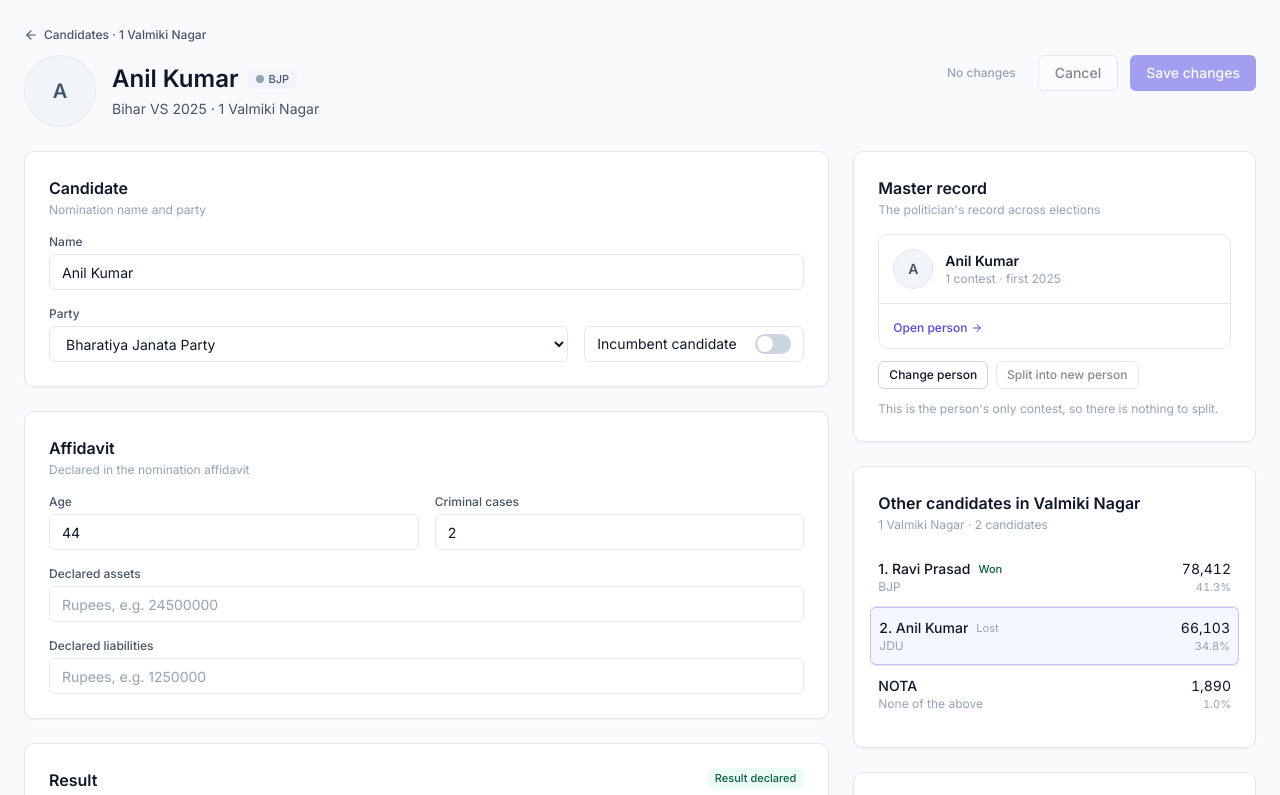
Test: Candidate record page › "Other candidates" lists the seat with this candidate highlighted and NOTA last; a row opens that candidate
Expected: the text "1. Ravi Prasad" is shown, left=878, top=559, right=970, bottom=579
Expected: the text "1 Valmiki Nagar · 2 candidates" is shown, left=878, top=517, right=1048, bottom=532
Click the button "1. Ravi Prasad Won BJP 78,412 41.3%".
click(931, 569)  # box left=870, top=549, right=1239, bottom=606
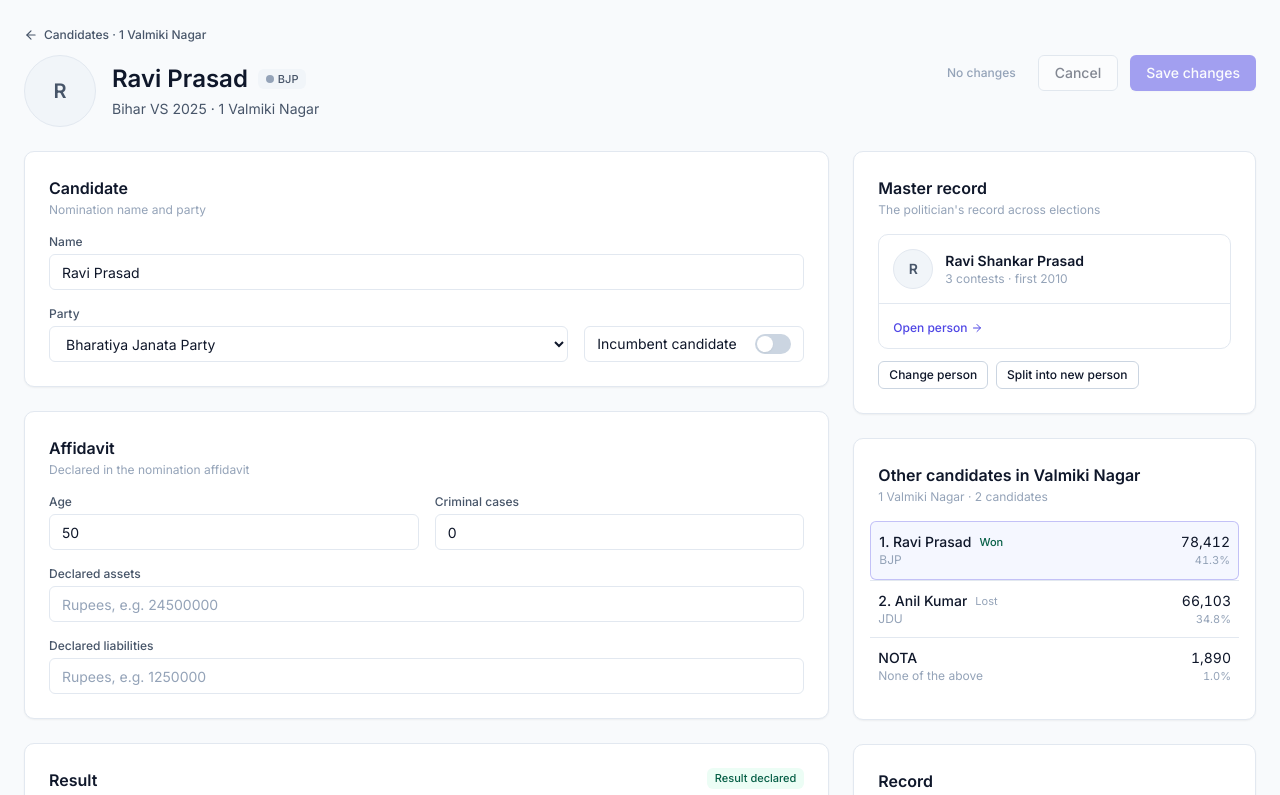
Expected: the heading "Ravi Prasad" is shown, left=112, top=63, right=248, bottom=95
